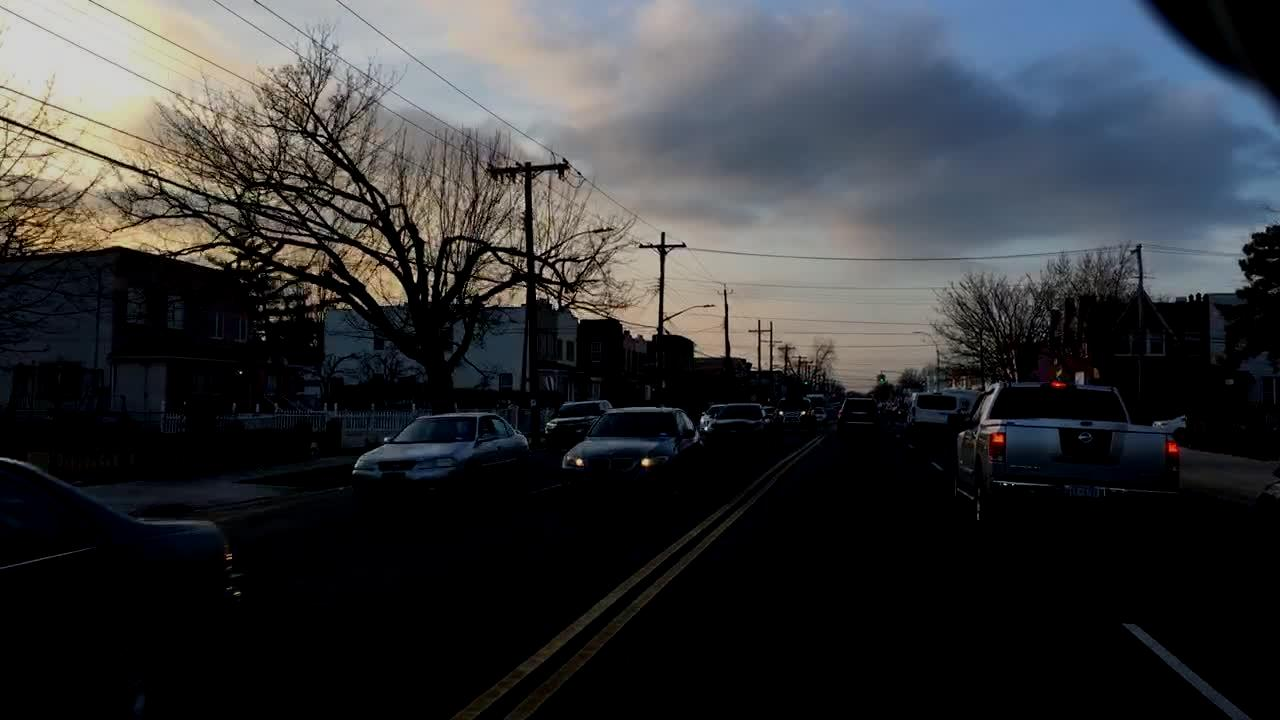Nissan: (1070, 426, 1097, 450)
